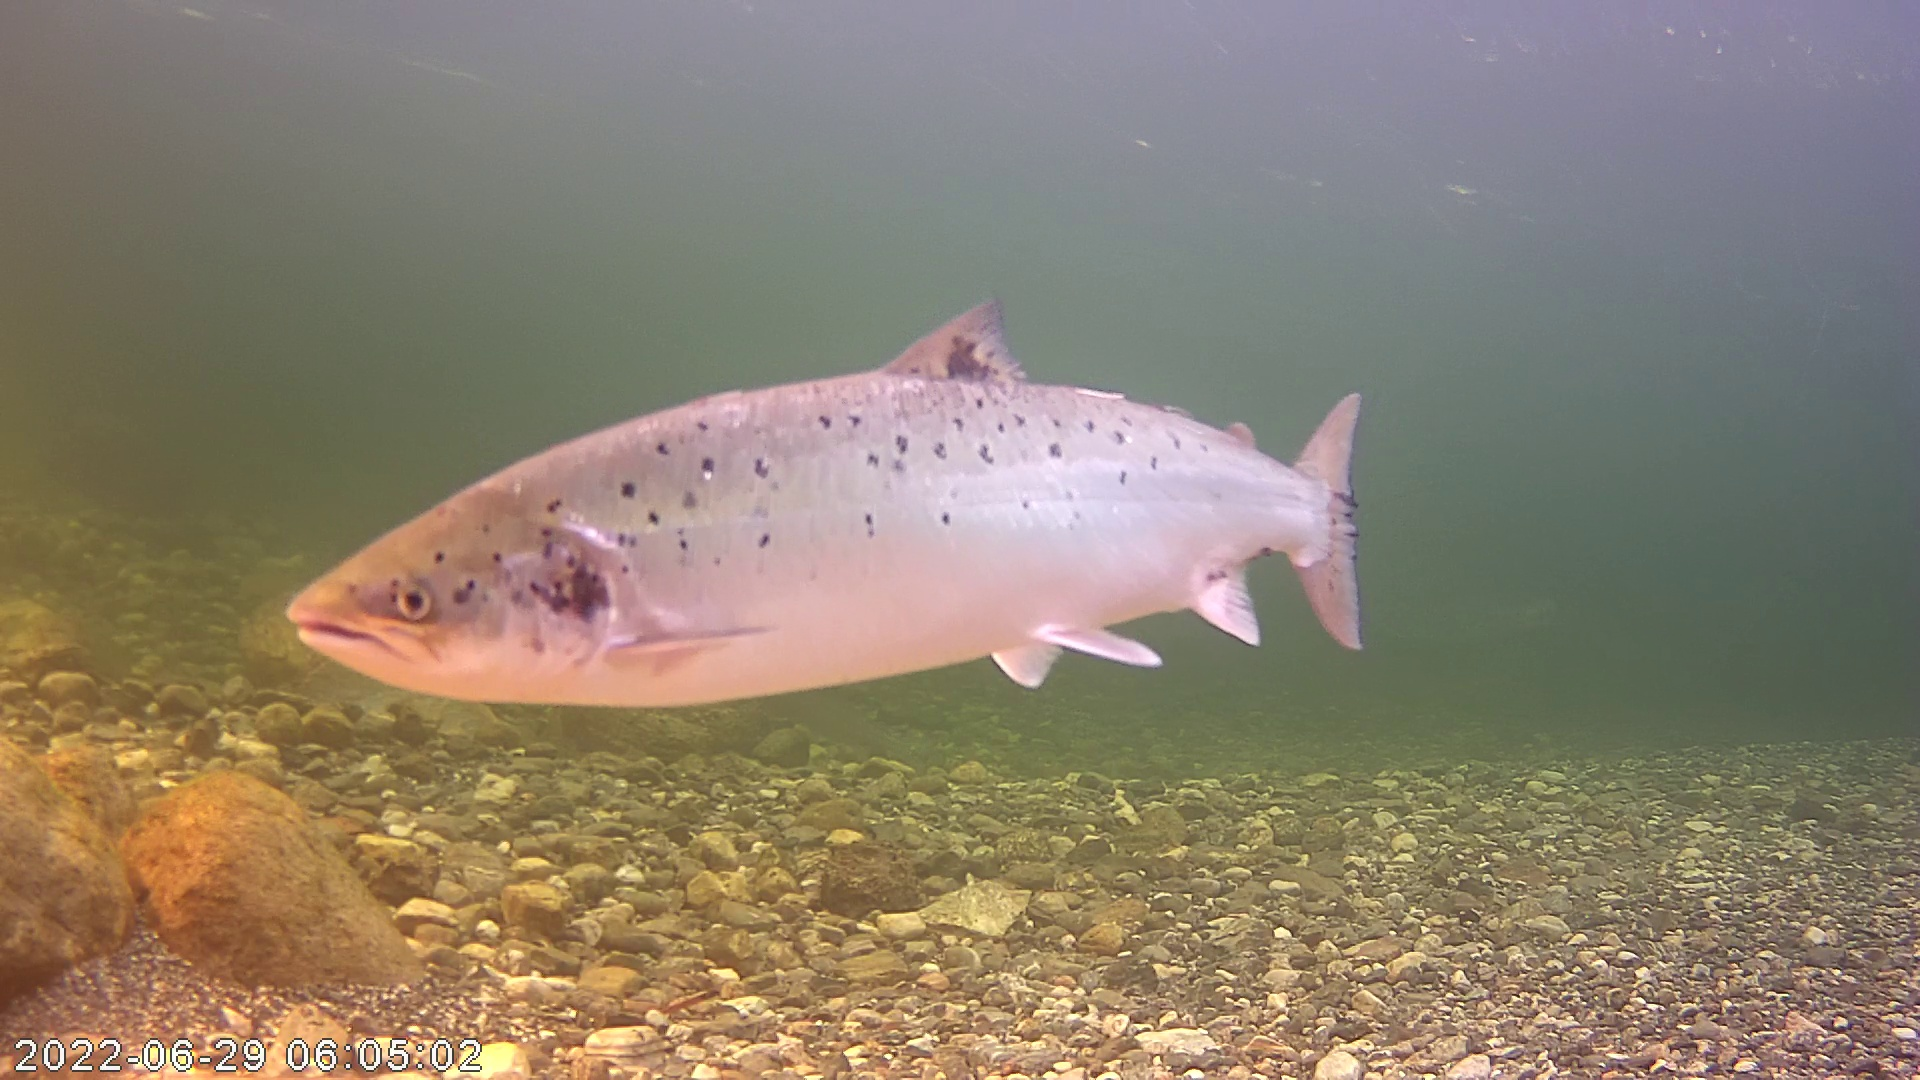salmon: (282, 237, 1375, 746)
